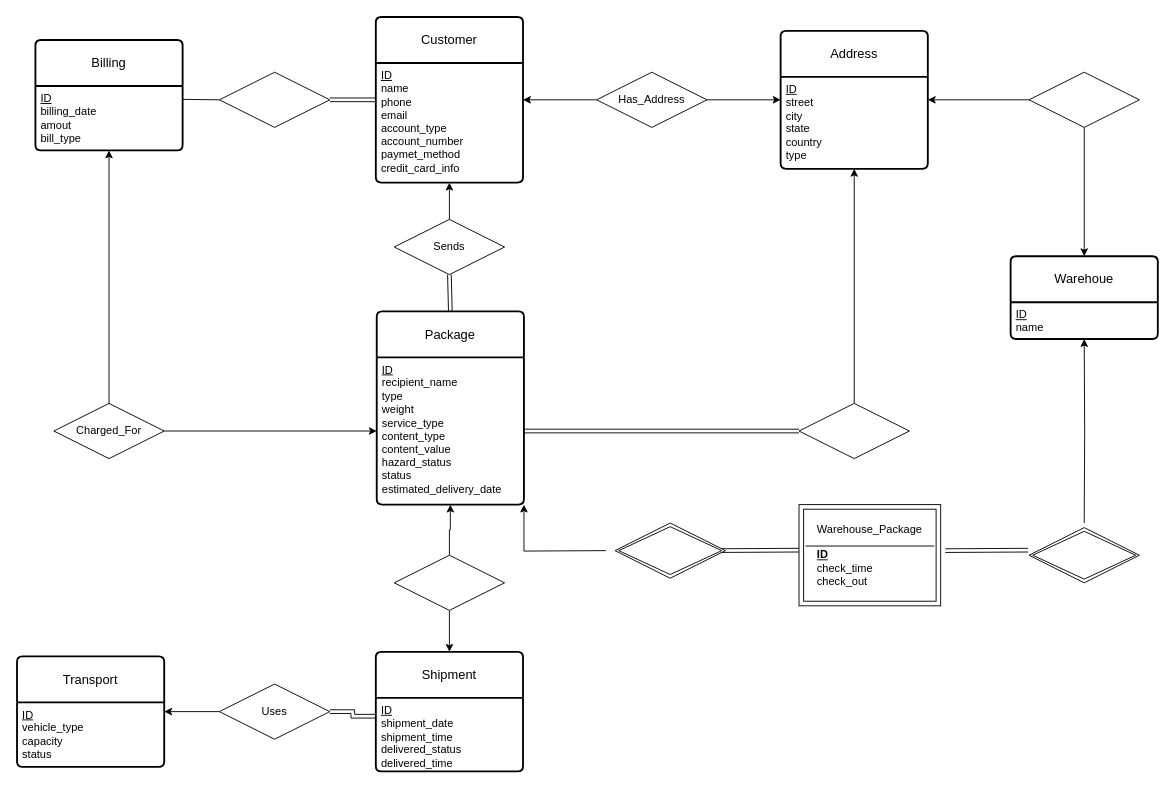
The diagram is 1174 pixels wide and 788 high, and some of its shapes have lost their labels. Each missing label, with the centre of its shape:
Destination / Origin: (853,430)
Included_In: (449,582)
Located at: (1083,99)
Receives: (274,99)
Stored_in: (669,550)
Stores: (1083,555)
